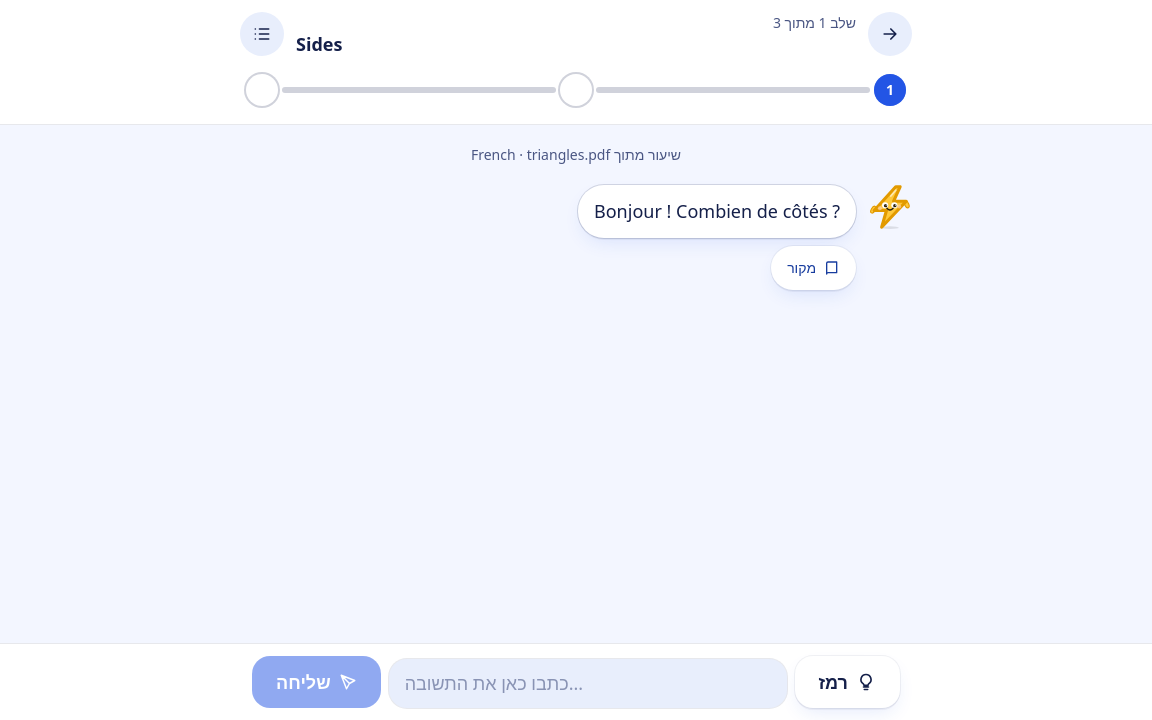
it: language and direction › a French lesson bubble is left to right and the praise stays Hebrew
The width and height of the screenshot is (1152, 720).
In the text box named "התשובה שלכם": (588, 684) [389,659,786,708], type "trois"
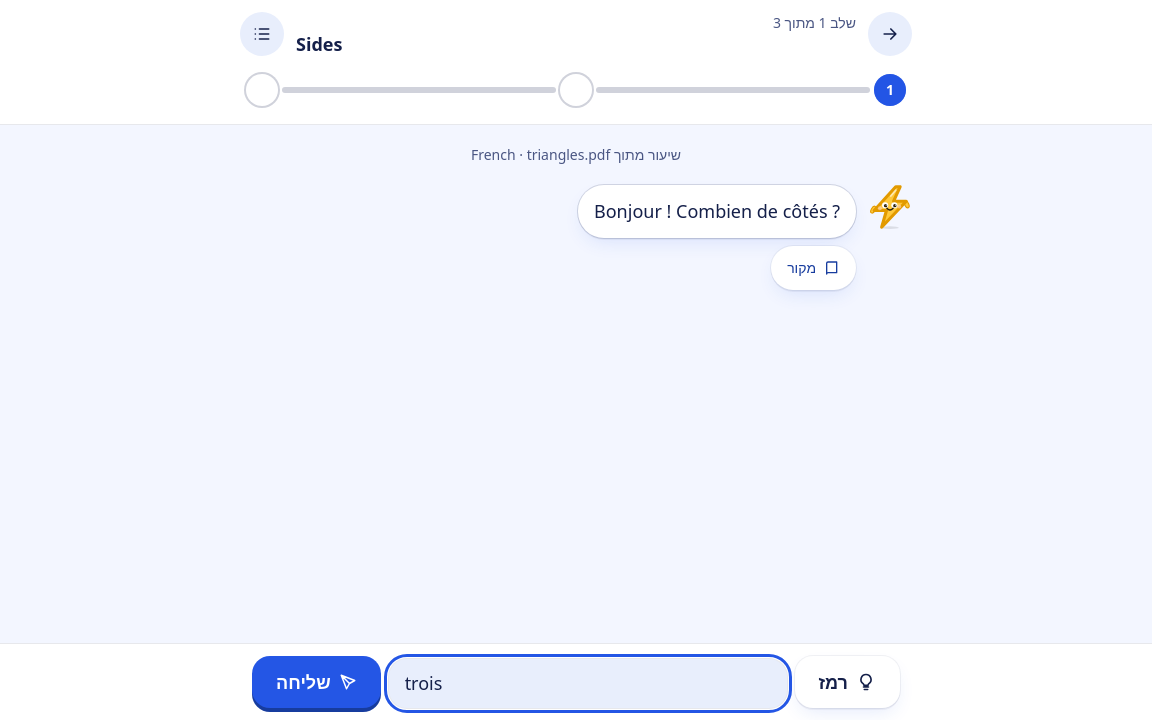
Click the button "שליחה": (316, 682) [252,656,381,708]
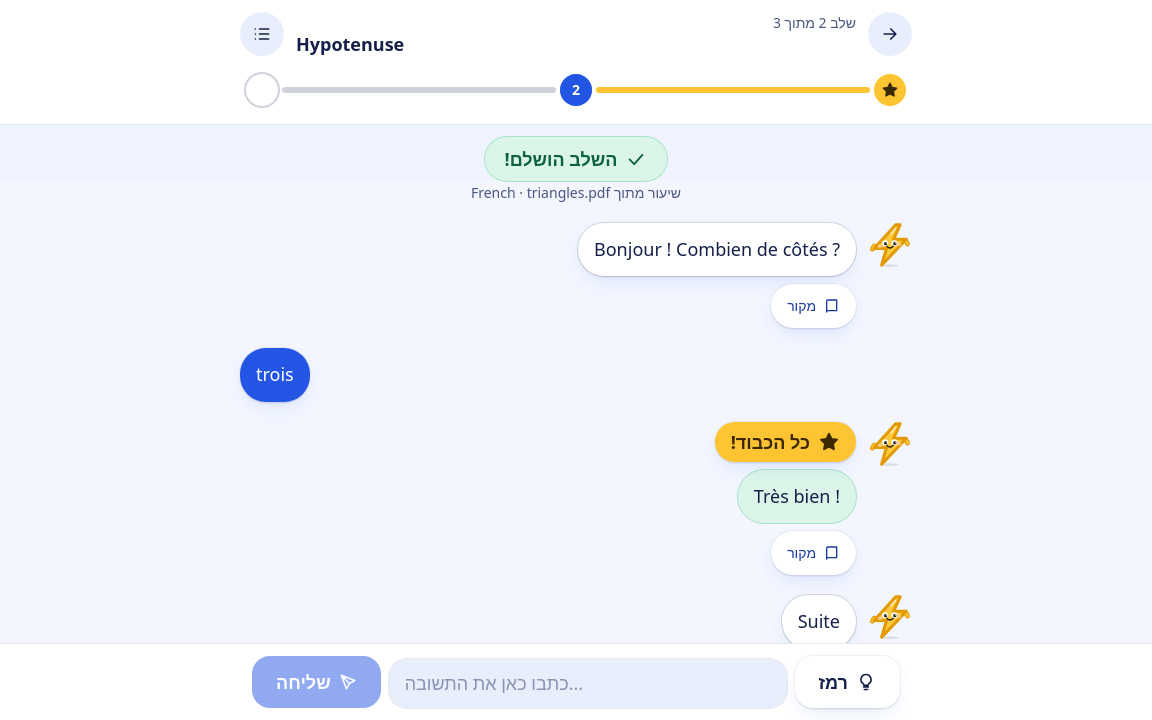
Now the text "Très bien !" is shown, box [754,482,840,511]
